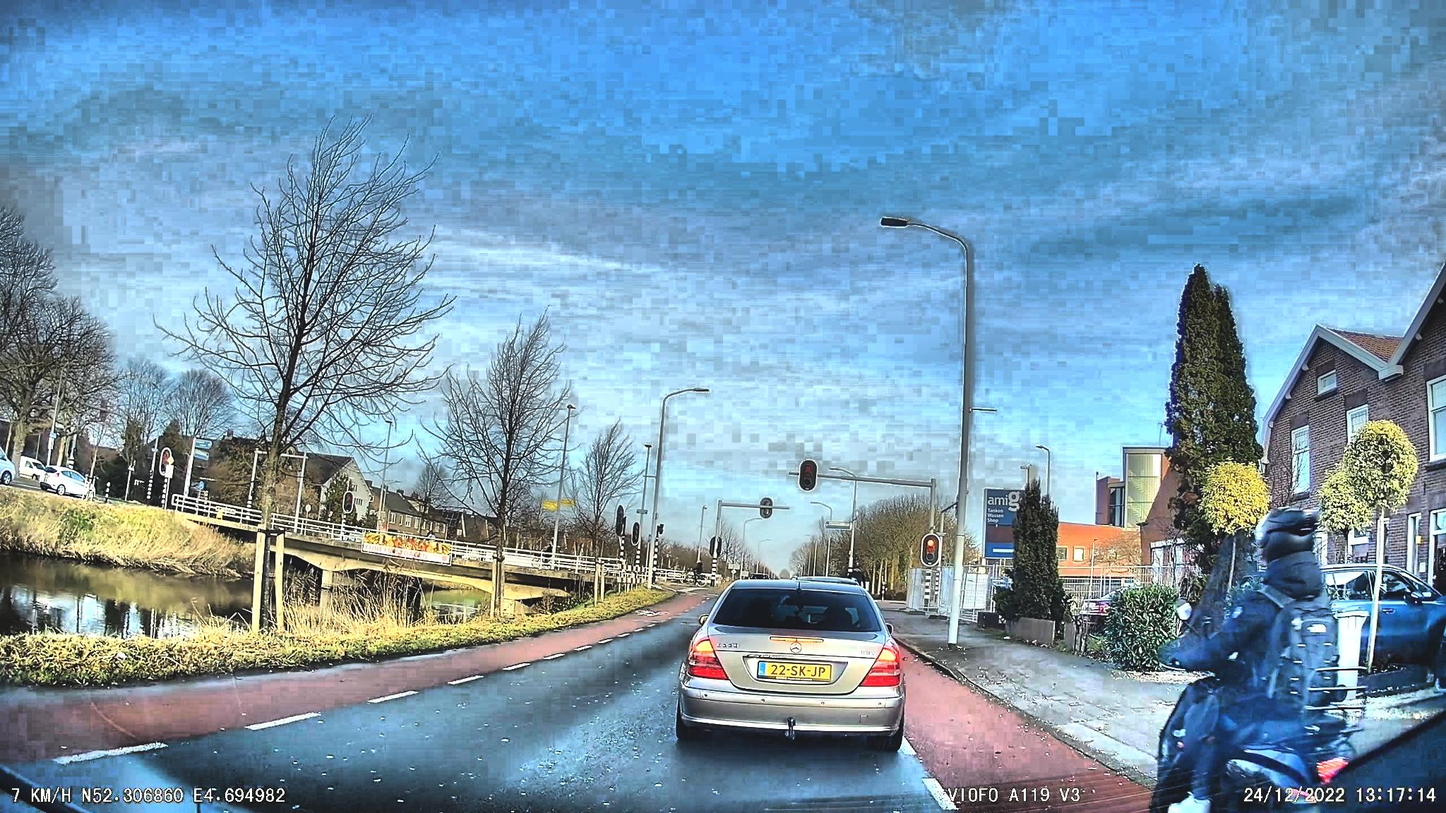Roads: (0, 610, 1152, 813)
